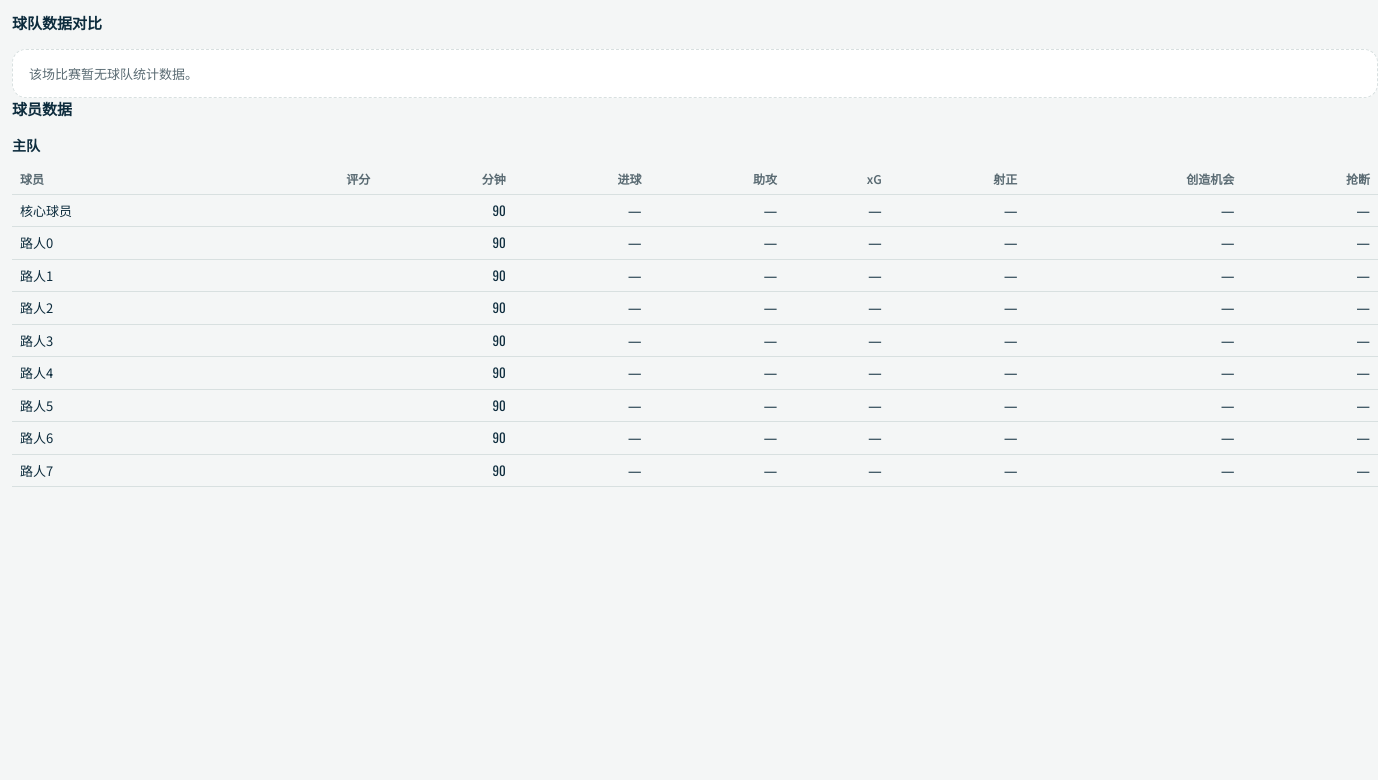
Test case: 球员卡:亮点句 › 池子够大且全场最多时出句
Click the button "核心球员 90 — — — — — —": {"x": 695, "y": 210} top-left (12, 194), bottom-right (1377, 226)
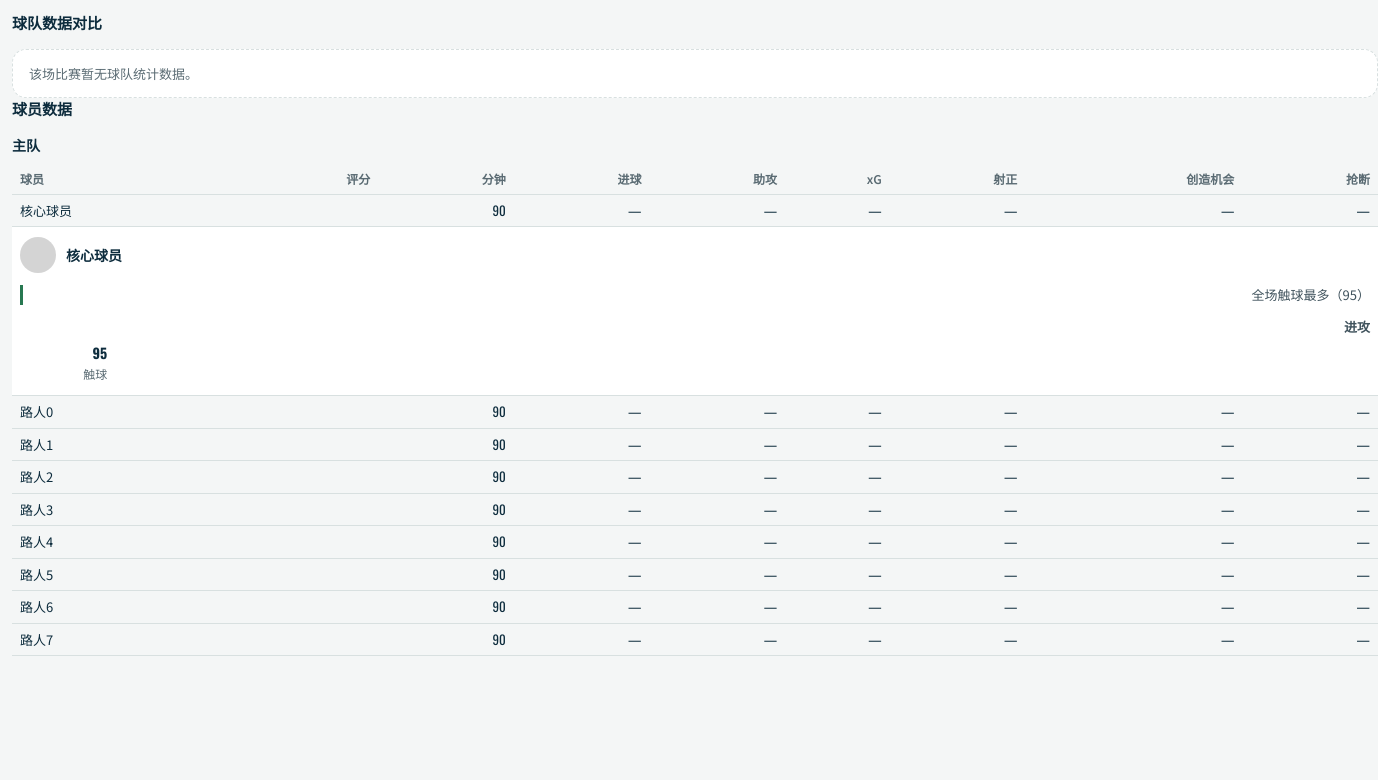
Now the list item "全场触球最多（95）" is shown, box top-left (20, 285), bottom-right (1370, 304)
